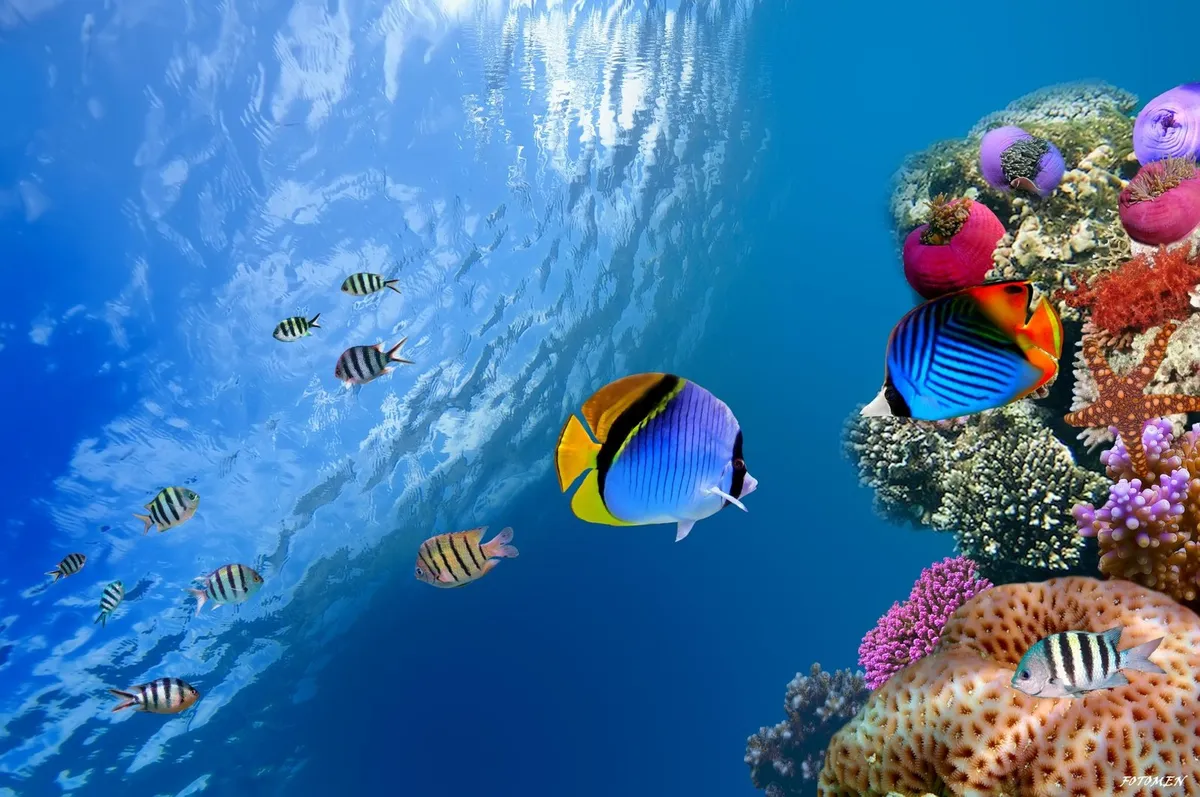Fish: (555, 368, 758, 538), (859, 277, 1067, 426), (1010, 629, 1171, 699), (414, 526, 520, 591), (333, 337, 417, 395), (184, 555, 267, 613), (108, 673, 201, 722), (133, 480, 205, 530), (267, 307, 328, 344), (89, 578, 128, 631), (335, 270, 404, 299), (45, 551, 92, 588)
